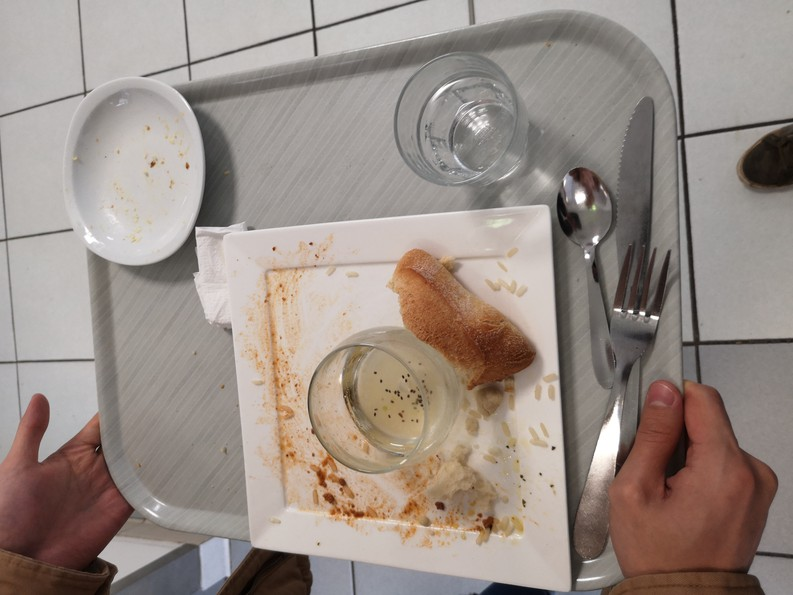cup: (369, 57, 546, 190)
cutlery: (553, 78, 685, 579)
orga: (388, 256, 533, 384)
trash: (188, 216, 269, 329)
